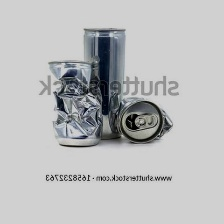can: (77, 15, 129, 141), (38, 52, 102, 151), (117, 93, 177, 146)
